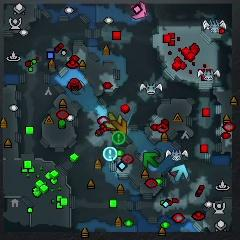Other: (103, 146, 117, 161), (112, 131, 126, 145)
x1: (131, 2, 148, 20)
x2: (106, 113, 122, 130)
x3: (170, 165, 189, 181)
x4: (143, 152, 160, 167)
x5: (112, 119, 128, 138)
